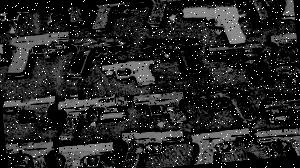handgun: (55, 30, 136, 85), (103, 119, 189, 168), (51, 90, 128, 142), (185, 80, 263, 128), (178, 0, 249, 49), (204, 42, 280, 86), (4, 30, 72, 75), (140, 34, 205, 80), (97, 52, 164, 93), (201, 0, 276, 33), (2, 94, 58, 136), (78, 0, 148, 32), (130, 90, 192, 124), (190, 130, 253, 162), (133, 0, 201, 29), (53, 140, 115, 168), (256, 123, 300, 159), (5, 142, 61, 168), (38, 5, 88, 32), (263, 90, 300, 125), (268, 31, 298, 62), (0, 10, 26, 31), (275, 64, 300, 82), (276, 0, 295, 20), (0, 43, 9, 67)
